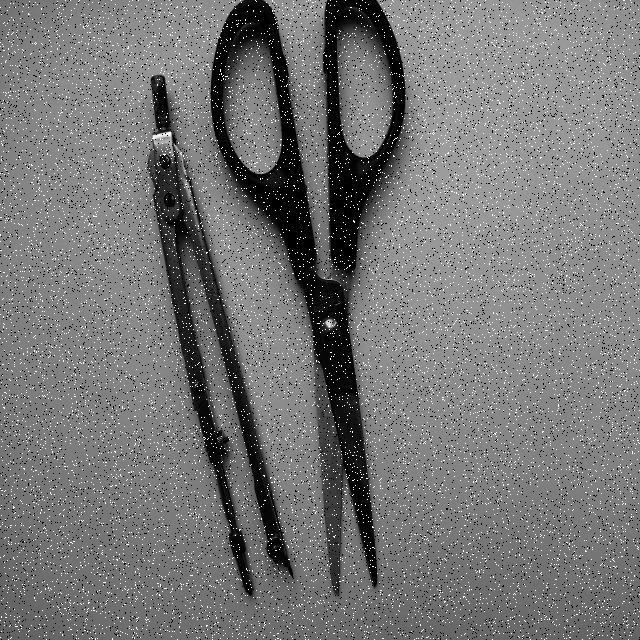scissors: (206, 5, 412, 592)
